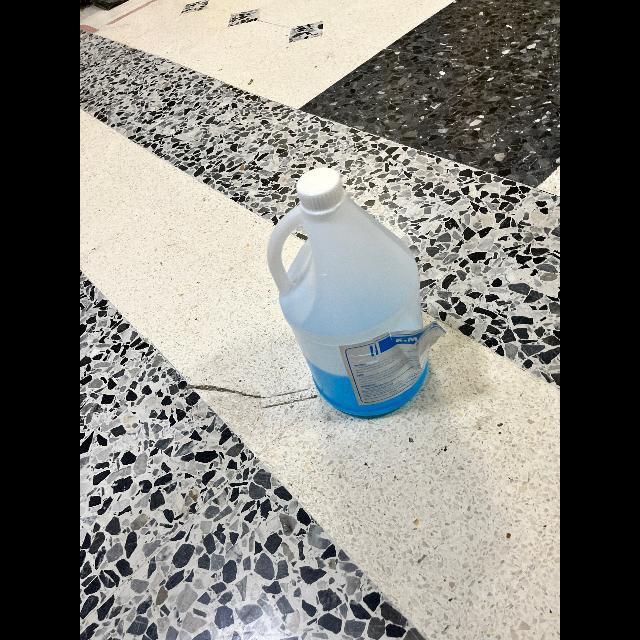chemical_plastic_gallon: (248, 162, 454, 434)
